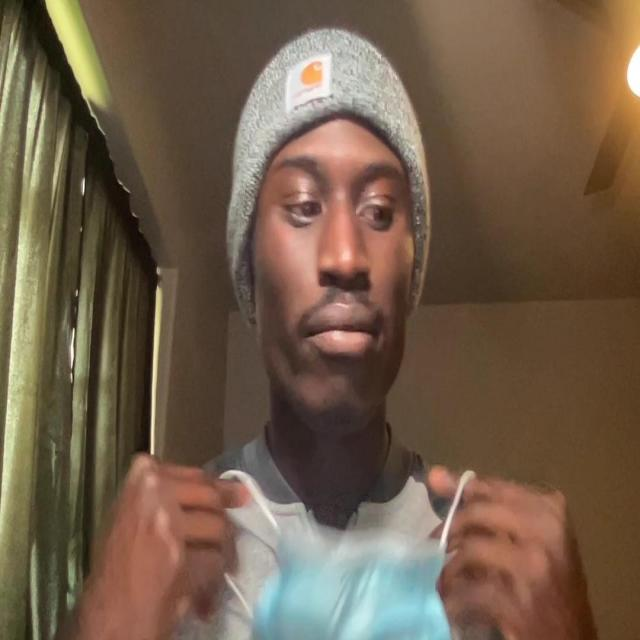face: (245, 91, 428, 441)
